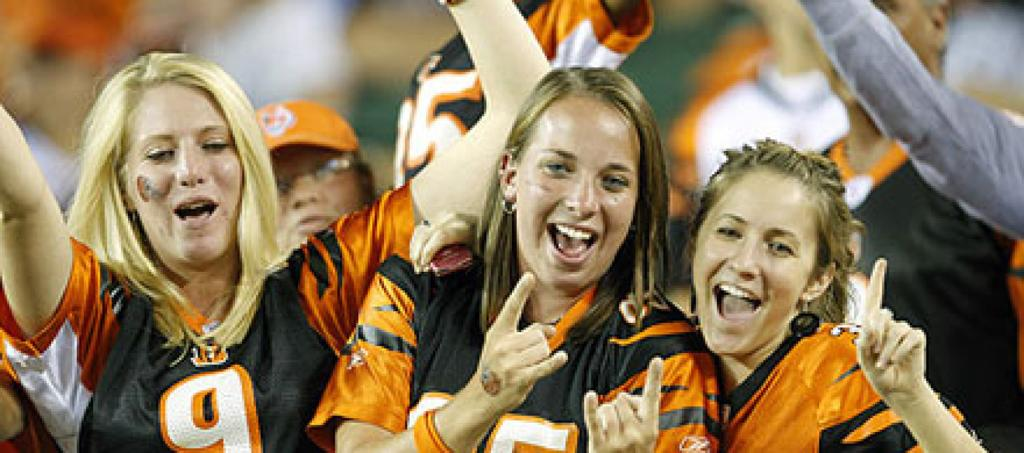face: (692, 164, 810, 356), (514, 108, 632, 280), (122, 98, 244, 260), (268, 128, 354, 248)
